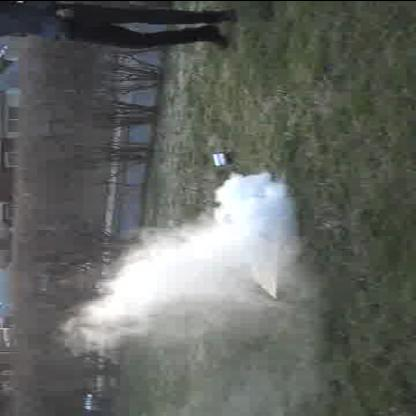Smoke: (94, 177, 292, 336)
